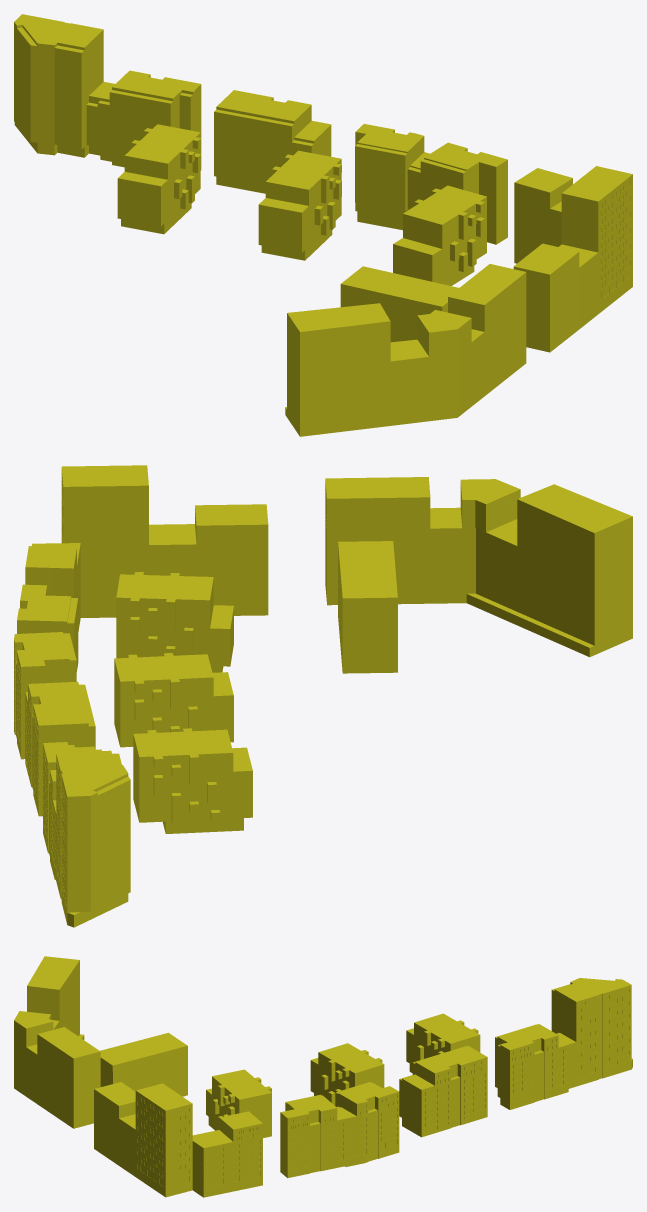
Rendered from PAM_1606-Tre_Areenan_tontti.FBX.
3 views of the same model, one above another, from view 1: azimuth 30°, elevation 25°; view 2: azimuth 150°, elevation 25°; view 3: azimuth 270°, elevation 25° (orthographic). The views are drawn at different scales.
Parts seen in each view (by area): view 1: 1609_Buildinmasses_LOD0; view 2: 1609_Buildinmasses_LOD0; view 3: 1609_Buildinmasses_LOD0.
Boxes of the visible parts, x1,y1,x2,y2 form: 1609_Buildinmasses_LOD0: (14, 14, 632, 436); 1609_Buildinmasses_LOD0: (14, 465, 632, 927); 1609_Buildinmasses_LOD0: (14, 956, 632, 1197).
Size of the model in its own units: 161 by 47 by 272.
